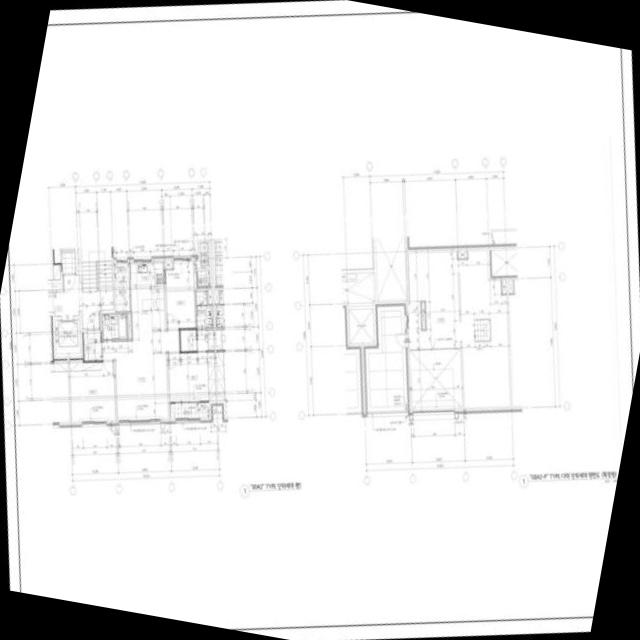background: (0, 0, 640, 640)
space_balconi: (113, 262, 129, 311), (197, 240, 210, 285), (170, 402, 208, 417)
space_bedroom: (168, 328, 215, 401), (69, 359, 115, 421), (165, 260, 195, 327)
space_elevator: (54, 318, 80, 353), (348, 308, 374, 343)
space_elevator_hall: (47, 274, 113, 328)
space_front: (83, 331, 103, 360)
space_kitchen: (129, 261, 164, 331)
space_living_room: (102, 330, 179, 419)
space_other: (421, 302, 425, 328), (127, 312, 131, 338), (47, 282, 61, 289), (163, 260, 172, 268), (501, 279, 506, 292), (207, 290, 212, 303), (457, 250, 466, 257), (214, 289, 218, 302), (508, 279, 512, 292)
space_staircase: (81, 246, 112, 292), (474, 318, 490, 340)
space_toilet: (101, 313, 126, 339), (195, 290, 212, 326)
